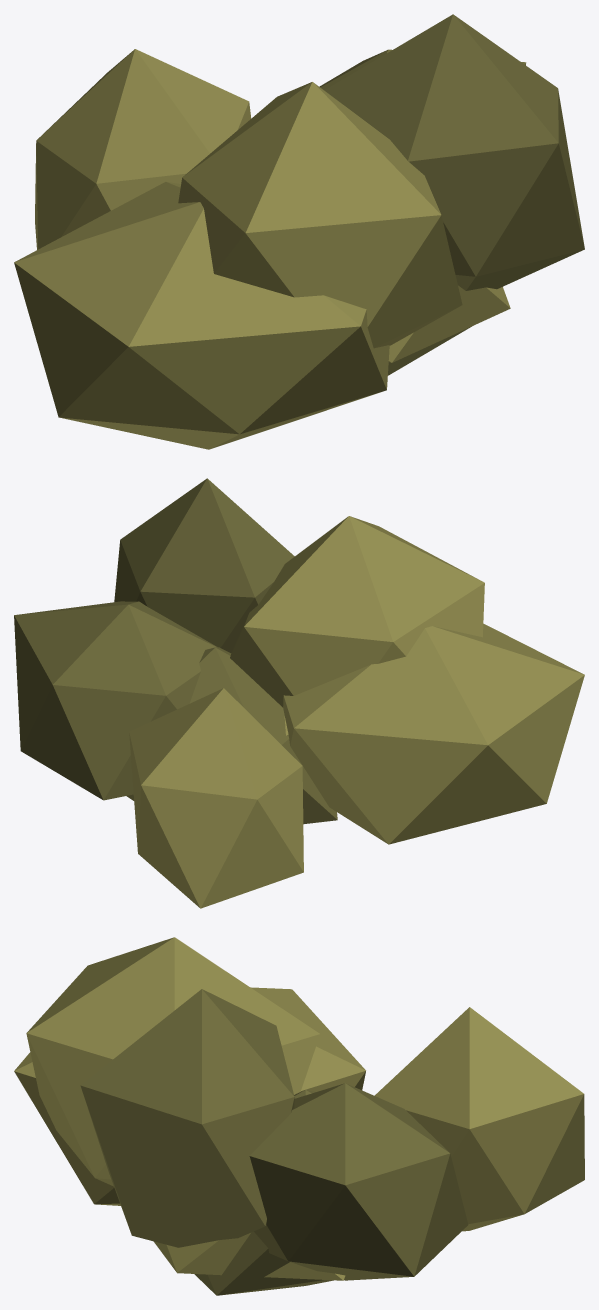
File: Canyon_Shrub.fbx
The picture shows the model from 3 angles, top to bottom: view 1: azimuth 30°, elevation 25°; view 2: azimuth 150°, elevation 25°; view 3: azimuth 270°, elevation 25°; orthographic projection. The views are drawn at different scales.
Parts seen in each view (by area): view 1: Canyon_Shrub; view 2: Canyon_Shrub; view 3: Canyon_Shrub.
Part boxes in pixels (bbox=[...]): Canyon_Shrub: bbox=[14, 14, 584, 449]; Canyon_Shrub: bbox=[14, 478, 584, 908]; Canyon_Shrub: bbox=[14, 937, 584, 1295].
Size of the model in its own units: 1.35 by 0.8561 by 1.34.
